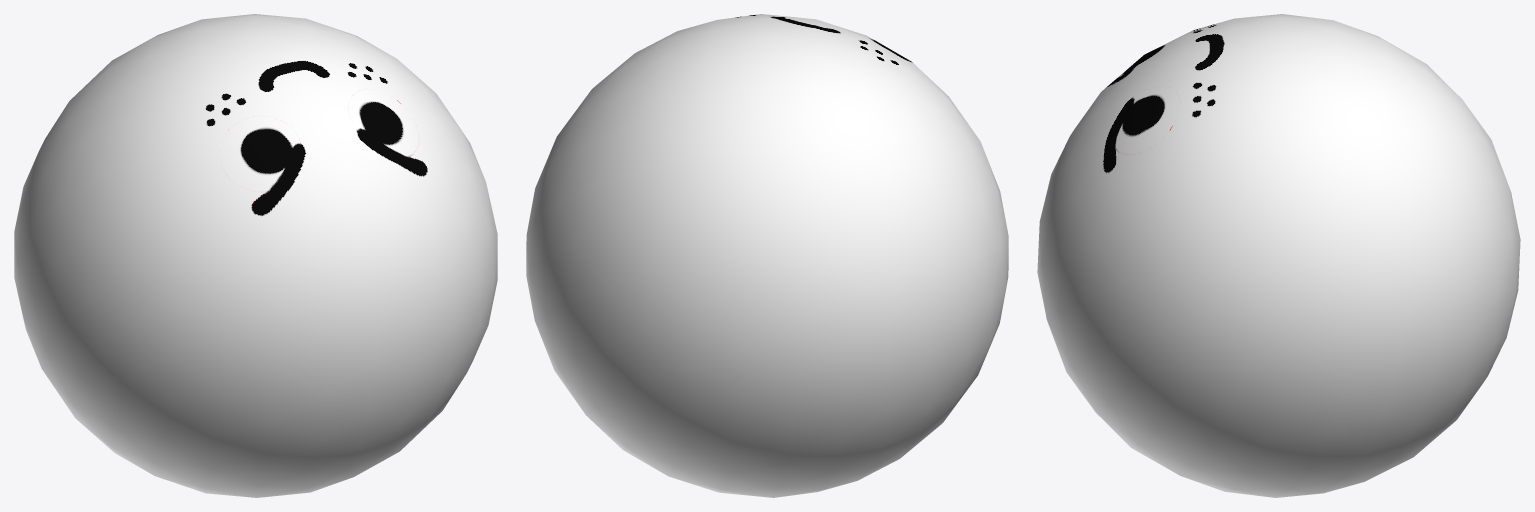
File: squishyTex.glb
3 views of the same model, side by side, from view 1: azimuth 30°, elevation 25°; view 2: azimuth 150°, elevation 25°; view 3: azimuth 270°, elevation 25° (orthographic).
Parts seen in each view (by area): view 1: my_sphere.001; view 2: my_sphere.001; view 3: my_sphere.001.
Part boxes in pixels (left/top/right/bottom): my_sphere.001: left=14, top=14, right=497, bottom=497; my_sphere.001: left=526, top=14, right=1008, bottom=497; my_sphere.001: left=1037, top=14, right=1520, bottom=497.
Size of the model in its own units: 0.9924 by 0.9999 by 0.9972.
1 material, 1 textured.
